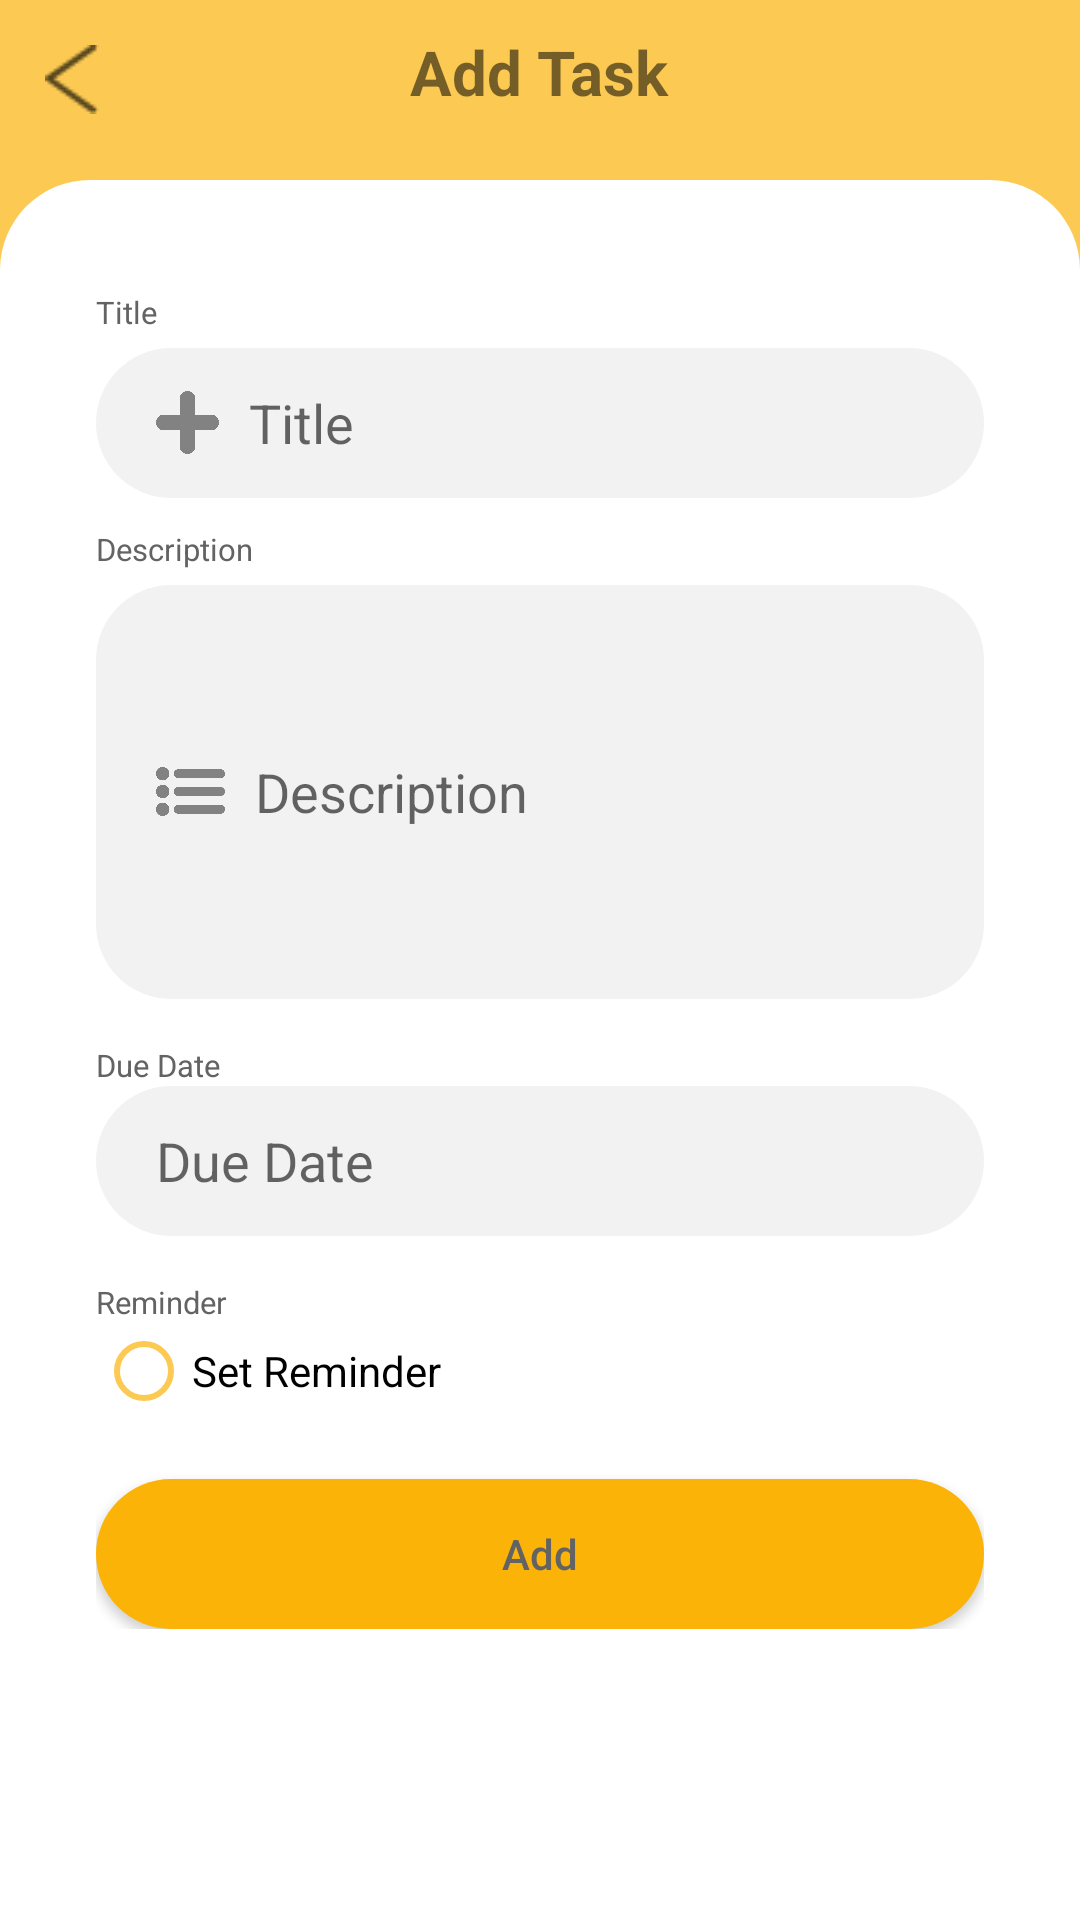

Screen size 1080px×1920px. Icon name, then its box in pixels as box=[x1, y1, x2, y2]:
back: box=[45, 45, 97, 114]
